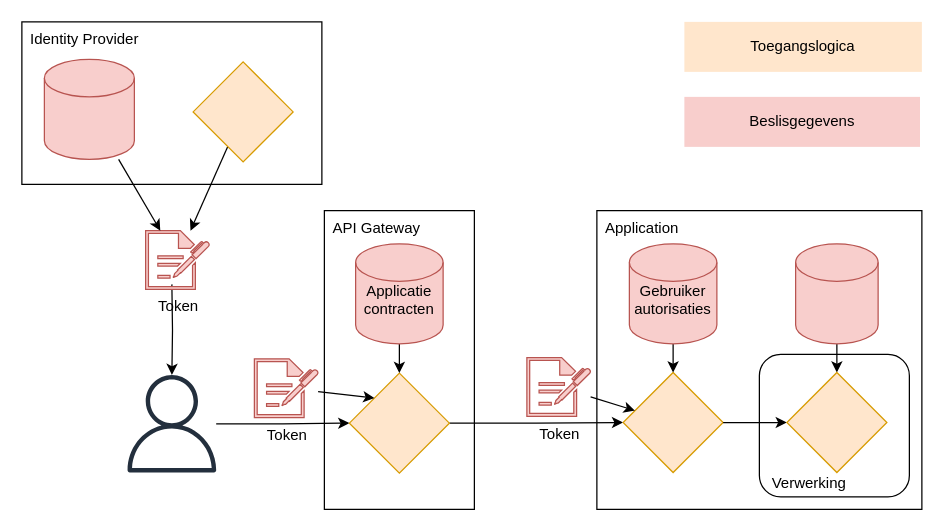
The diagram is 944 pixels wide and 531 high, and some of its shapes have lost their labels. Each missing label, with the centre of its shape:
"Applicatie gegevens" goes at (x=836, y=293).
"Autorisatie laag" goes at (x=672, y=421).
"Dynamic roles" goes at (x=242, y=111).
"Gebruikers administratie" goes at (x=88, y=108).
"In-line autorisaties" goes at (x=836, y=421).
"Request Filters" goes at (x=398, y=422).
